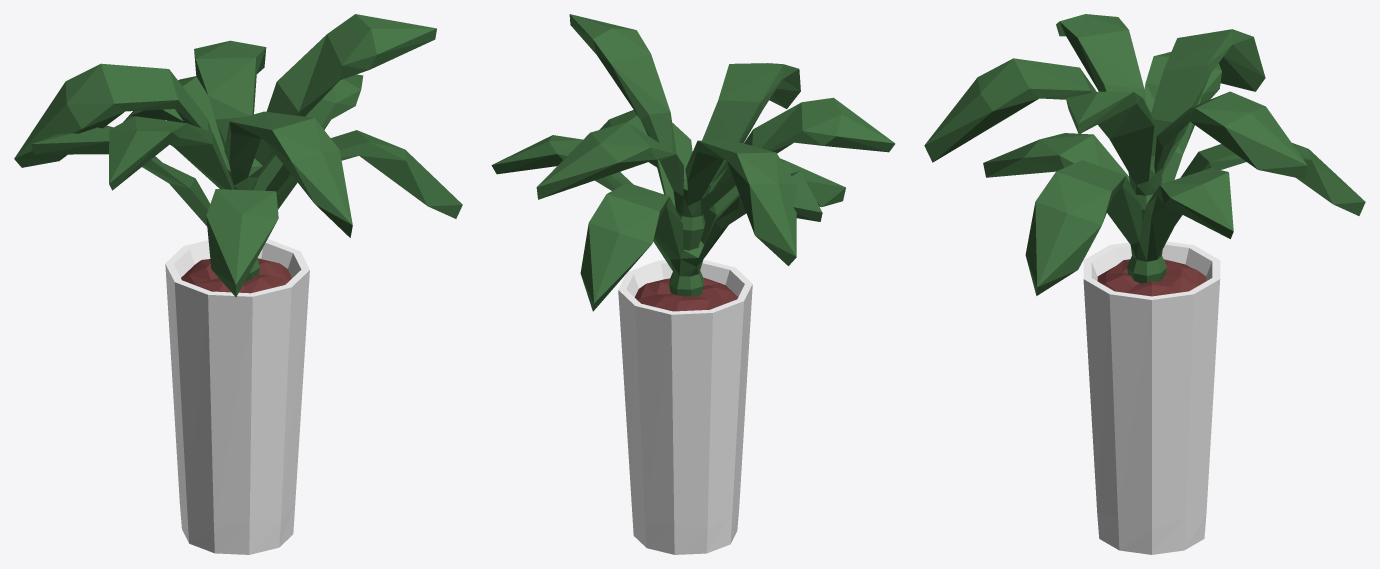
The model's file is StandingPlant_01.fbx.
3 views of the same model, side by side, from view 1: azimuth 30°, elevation 25°; view 2: azimuth 150°, elevation 25°; view 3: azimuth 270°, elevation 25° (orthographic). The views are drawn at different scales.
Visible parts, largest first — view 1: StandingPlant_01; view 2: StandingPlant_01; view 3: StandingPlant_01.
Boxes of the visible parts, bbox=[...] form: StandingPlant_01: bbox=[14, 14, 462, 554]; StandingPlant_01: bbox=[491, 14, 895, 554]; StandingPlant_01: bbox=[924, 14, 1365, 554].
Bounding box in the file's own units: 92.44 × 128 × 104.
